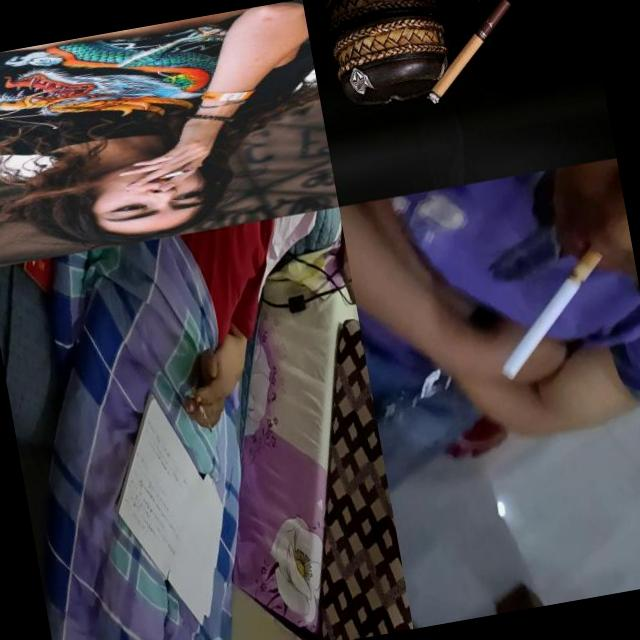cigarette: (484, 245, 622, 382), (408, 0, 525, 108), (190, 383, 212, 435), (156, 168, 191, 179)
